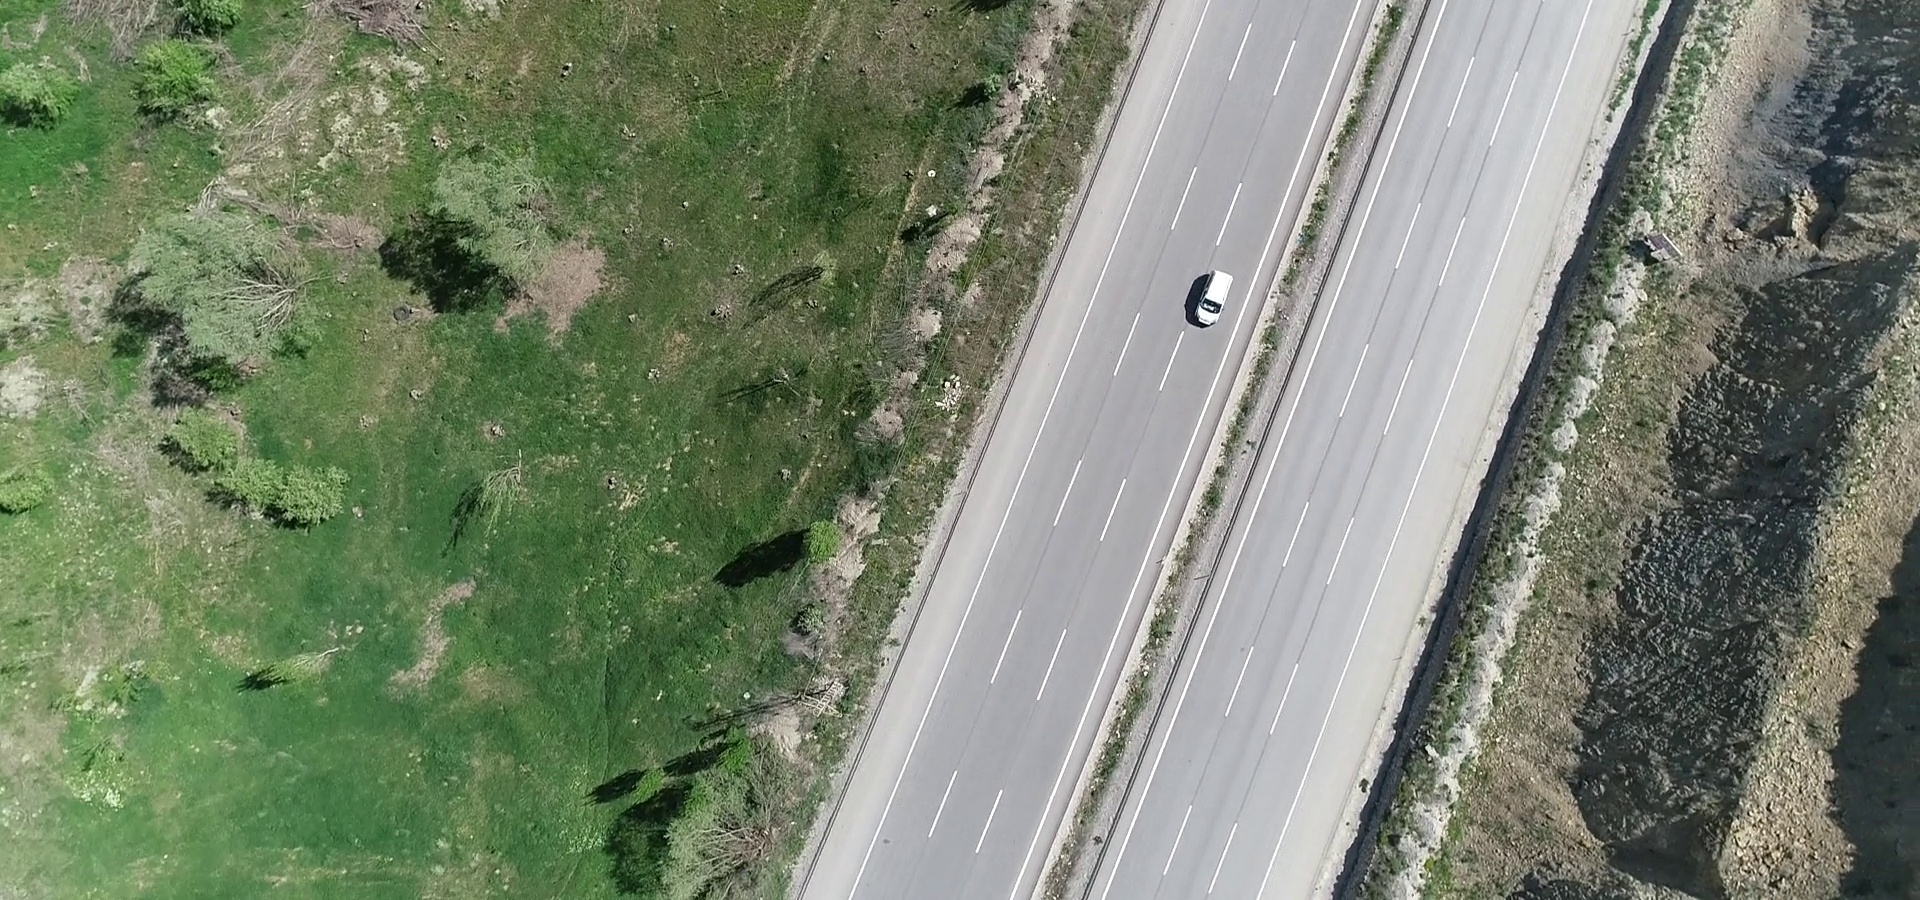araba: (1178, 264, 1237, 331)
